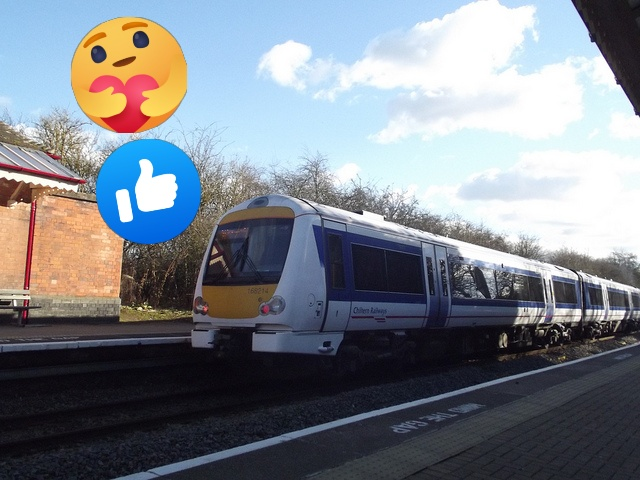care: (71, 17, 187, 133)
like: (96, 139, 201, 244)
